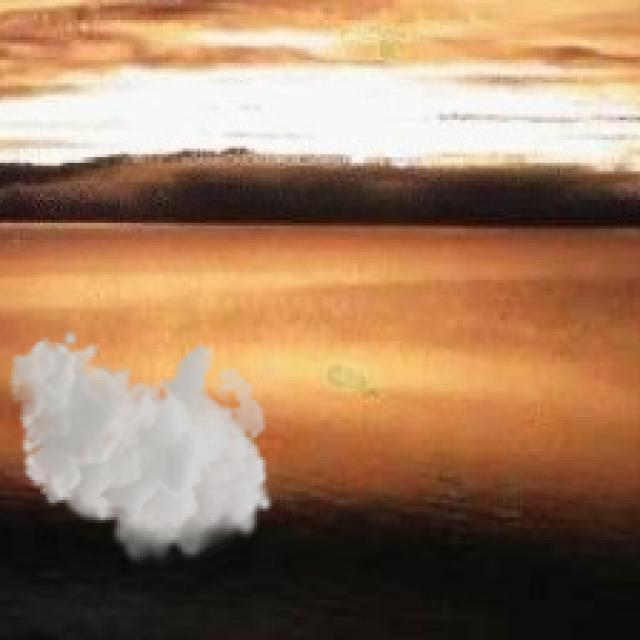Smoke: (8, 328, 274, 568)
